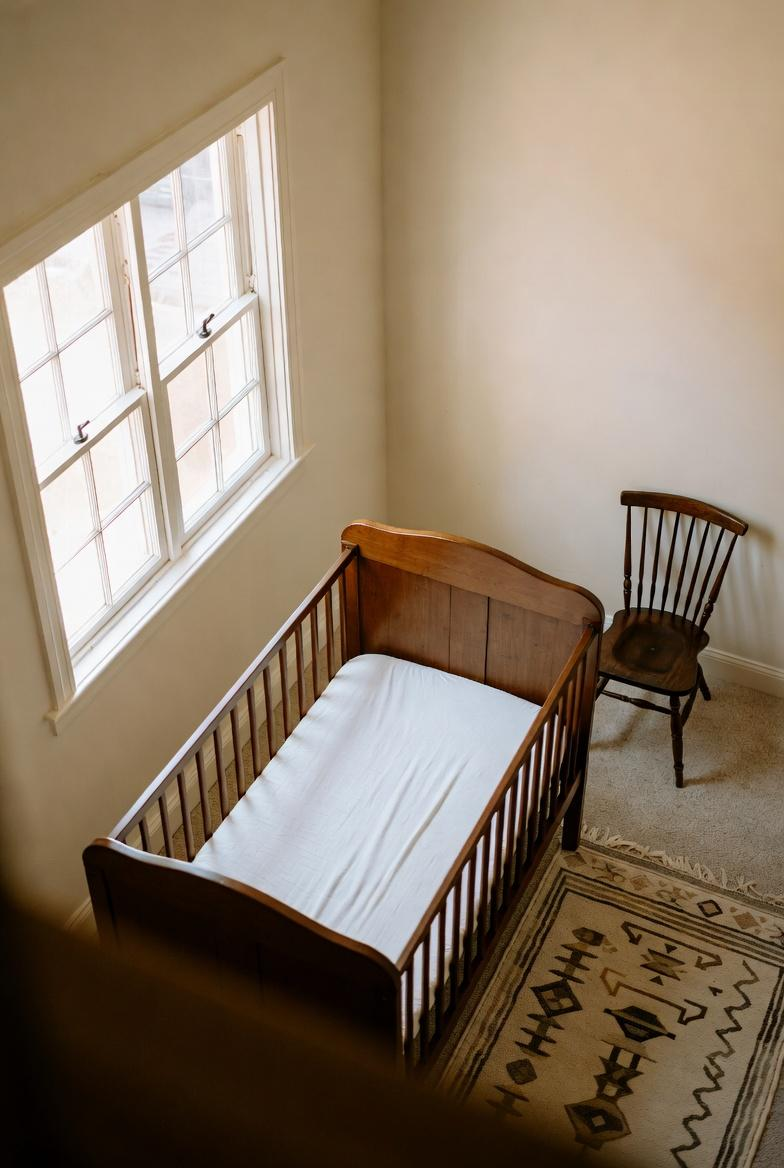crib: (78, 492, 615, 1102)
